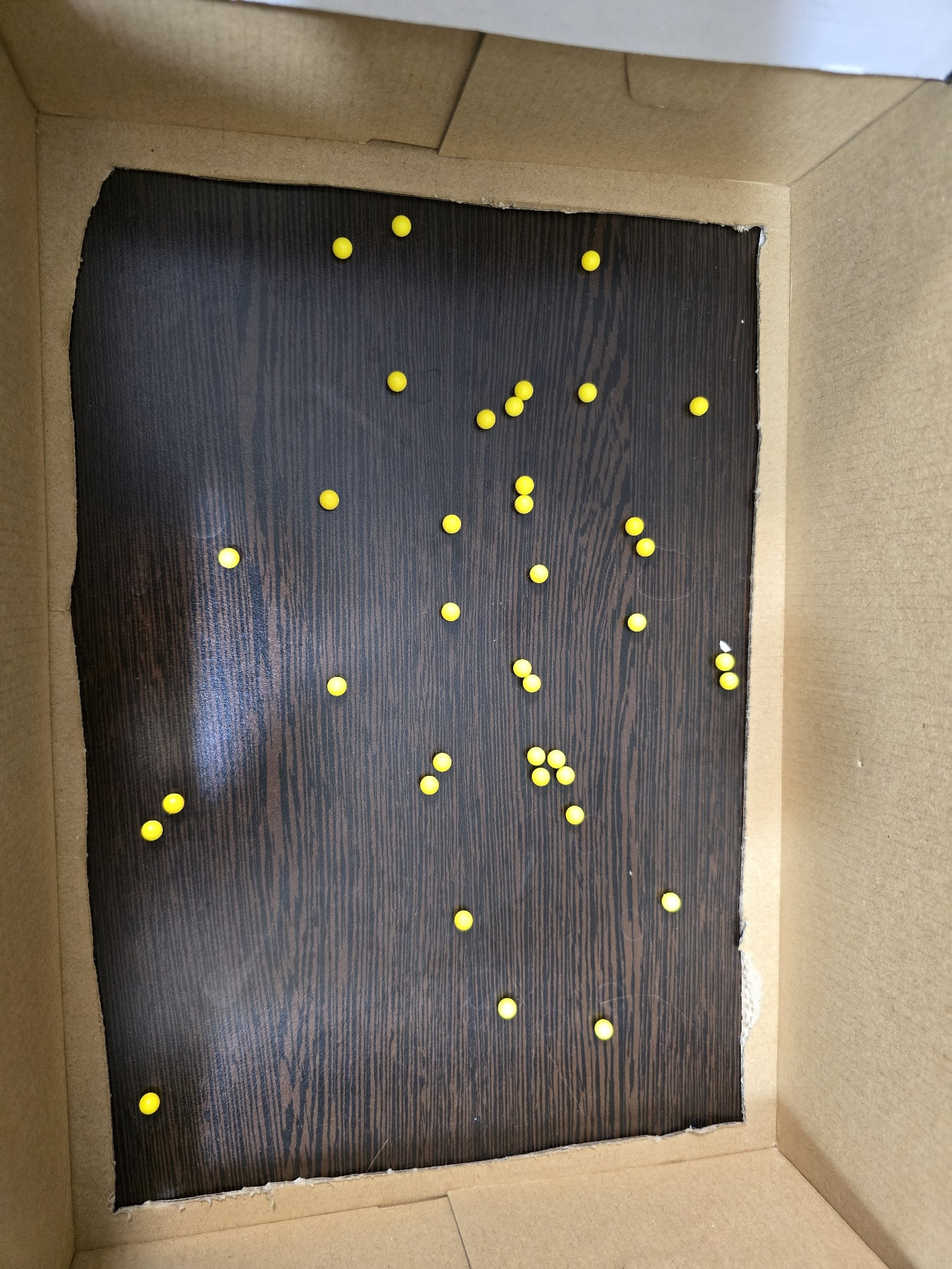yellow_bead: (223, 552, 236, 565), (631, 617, 643, 628), (560, 770, 571, 781), (447, 518, 457, 530), (460, 914, 469, 927), (446, 606, 456, 616), (571, 809, 580, 820), (332, 682, 343, 691), (438, 757, 448, 766), (531, 751, 541, 760), (424, 780, 435, 788), (537, 771, 546, 780), (552, 756, 562, 764), (534, 569, 544, 577), (522, 500, 530, 509), (527, 681, 537, 688), (587, 390, 593, 397), (730, 679, 736, 685), (724, 661, 731, 666), (646, 542, 651, 549), (521, 668, 527, 672), (599, 1024, 605, 1027), (515, 404, 518, 410), (150, 824, 153, 829), (635, 524, 640, 527), (518, 665, 521, 669), (526, 483, 530, 486), (701, 403, 704, 407), (329, 498, 332, 501), (502, 1005, 504, 1007), (506, 1002, 508, 1003), (526, 389, 527, 391), (724, 678, 725, 679), (504, 1003, 504, 1004), (666, 900, 666, 902), (721, 659, 721, 661), (489, 418, 489, 420)
